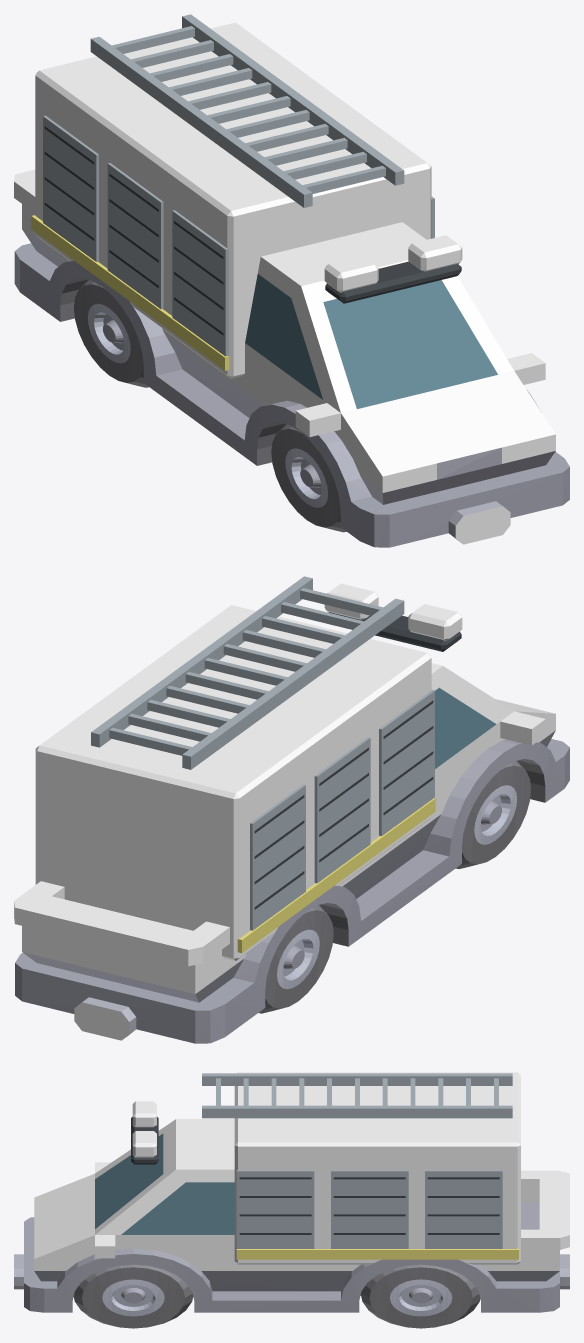
The model's file is fire-engine.glb.
The picture shows the model from 3 angles, top to bottom: view 1: azimuth 30°, elevation 25°; view 2: azimuth 150°, elevation 25°; view 3: azimuth 270°, elevation 25°; orthographic projection. The views are drawn at different scales.
Parts seen in each view (by area): view 1: trim, body, head, beacon_right, beacon_left; view 2: body, trim, beacon_right, tail, beacon_left; view 3: trim, body, beacon_left, beacon_right, head.
Boxes of the visible parts, x1,y1,x2,y2 form: trim: (14,14,569,547); body: (14,22,555,544); head: (368,434,555,492); beacon_right: (324,255,378,292); beacon_left: (408,235,462,271); body: (14,605,554,1040); trim: (15,576,569,1043); beacon_right: (408,604,462,641); tail: (22,926,209,977); beacon_left: (324,583,378,619); trim: (14,1073,569,1328); body: (34,1072,569,1270); beacon_left: (132,1131,156,1157); beacon_right: (132,1101,156,1127); head: (34,1251,54,1270).
Size of the model in its own units: 2.43 by 2.83 by 6.8.
